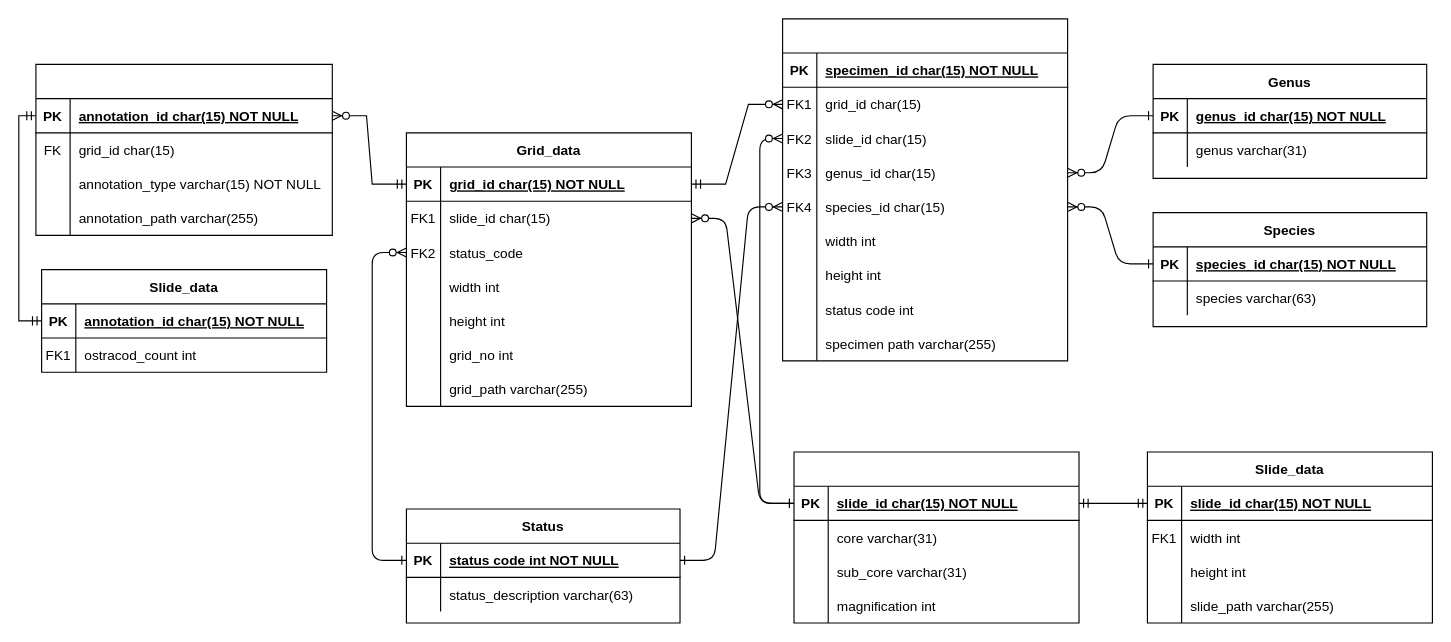
This 1451x642 diagram has some shape labels left out. Each missing label, with the box of its shape:
Grid_annotations: (35, 63, 332, 235)
Slide_id_hub: (793, 451, 1079, 623)
specimen_data: (781, 18, 1068, 361)
